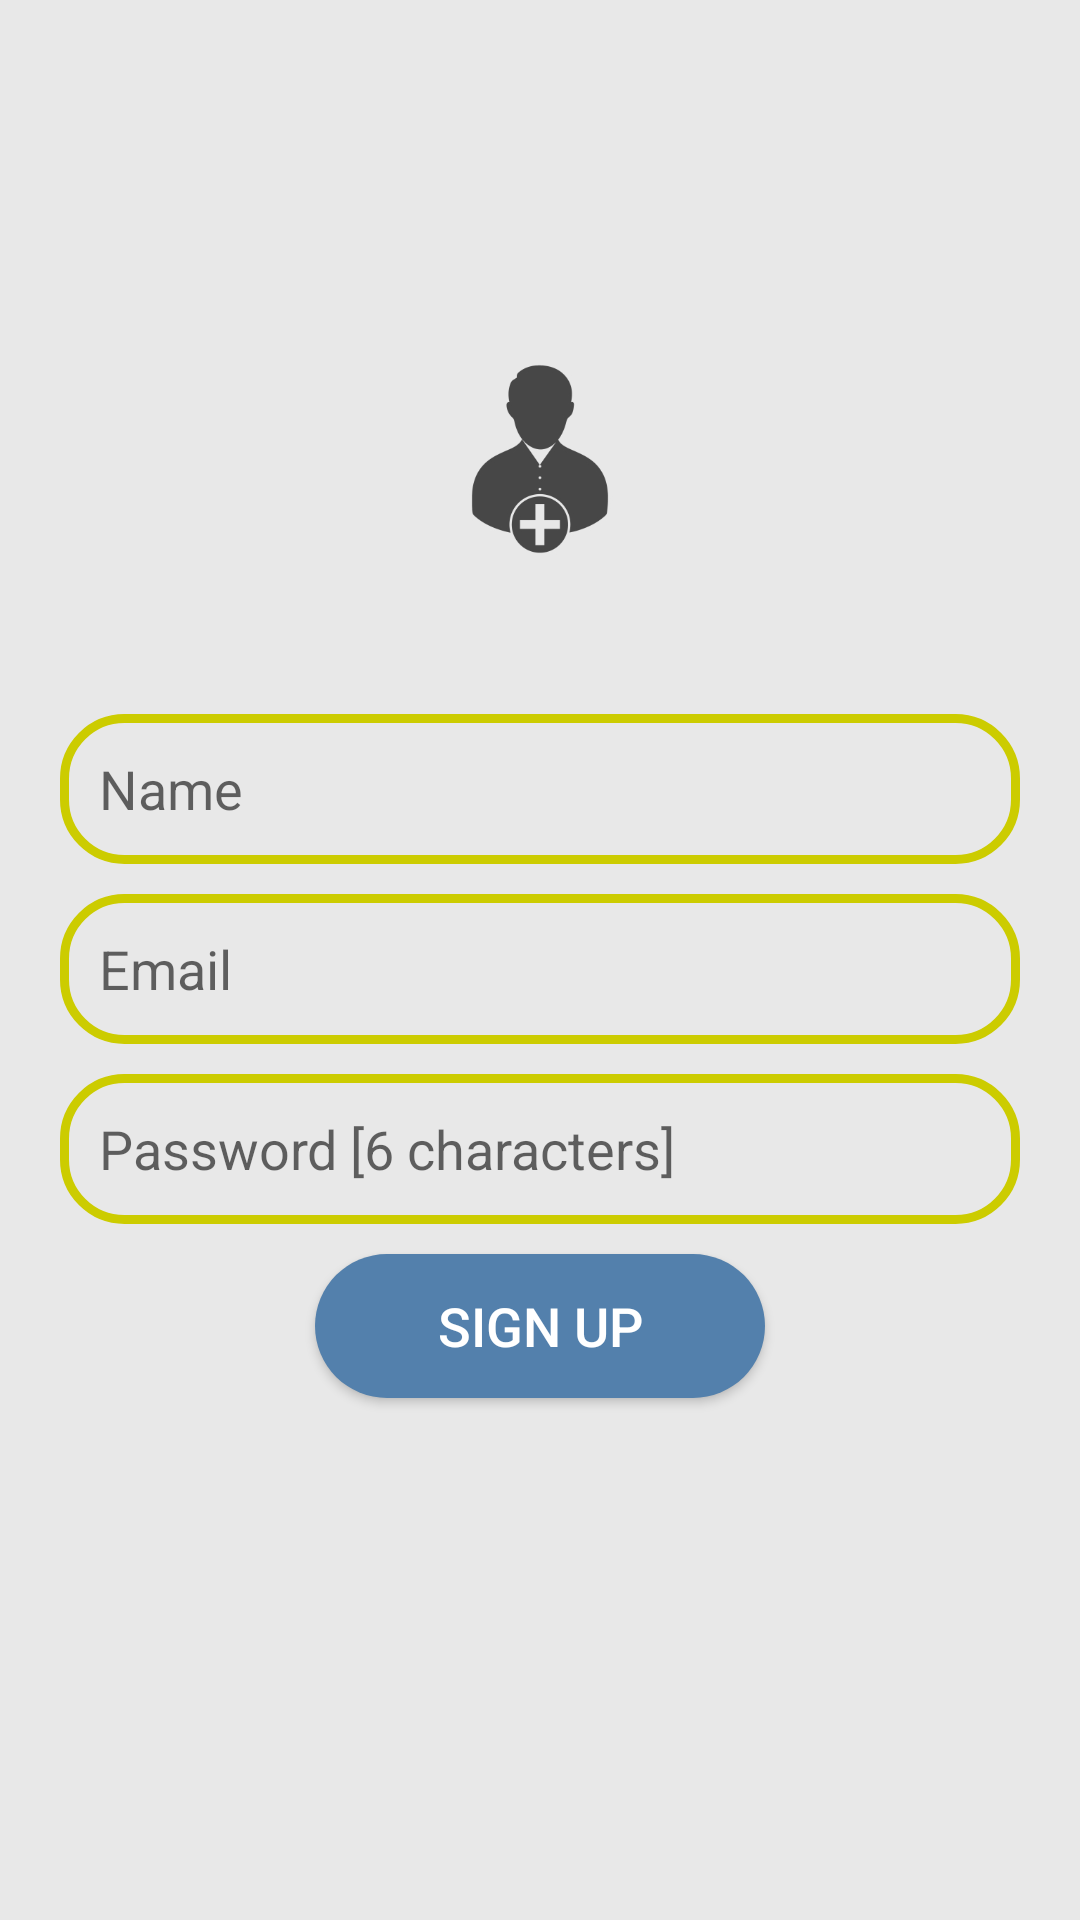

Where icons sit on this 1080w x 1920h app screen, as [x1, y1, x2, y2]:
signup: [472, 365, 608, 553]
